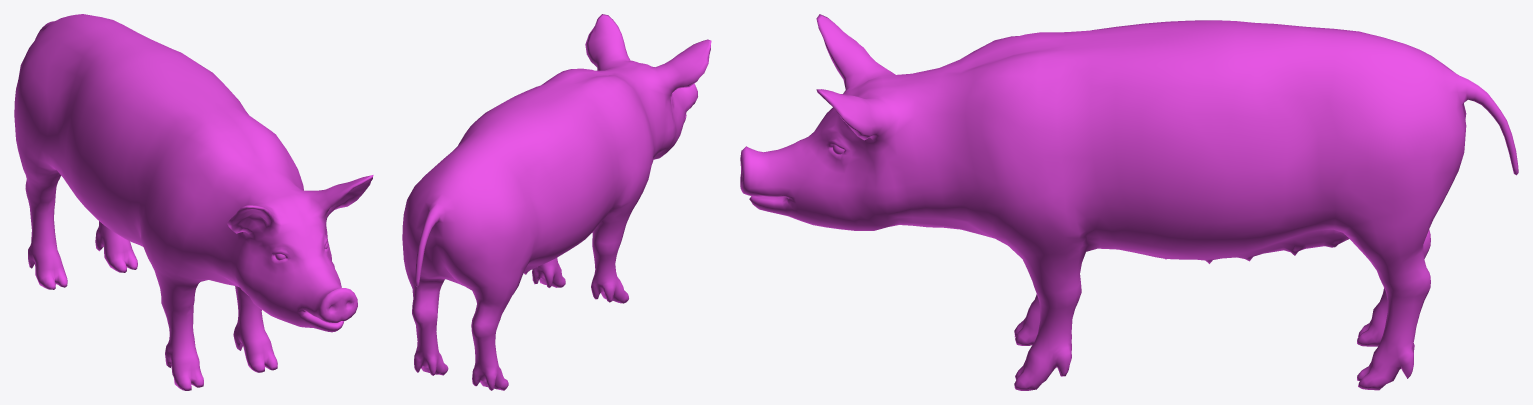
File: pig.glb
3 renders of one model, left to right at view 1: azimuth 30°, elevation 25°; view 2: azimuth 150°, elevation 25°; view 3: azimuth 270°, elevation 25°, orthographic. The views are drawn at different scales.
Visible parts, largest first — view 1: pig; view 2: pig; view 3: pig.
Boxes of the visible parts, x1,y1,x2,y2 form: pig: (14,14,373,390); pig: (402,14,711,390); pig: (740,14,1518,390).
Bounding box in the file's own units: 54.76 × 92.71 × 197.
